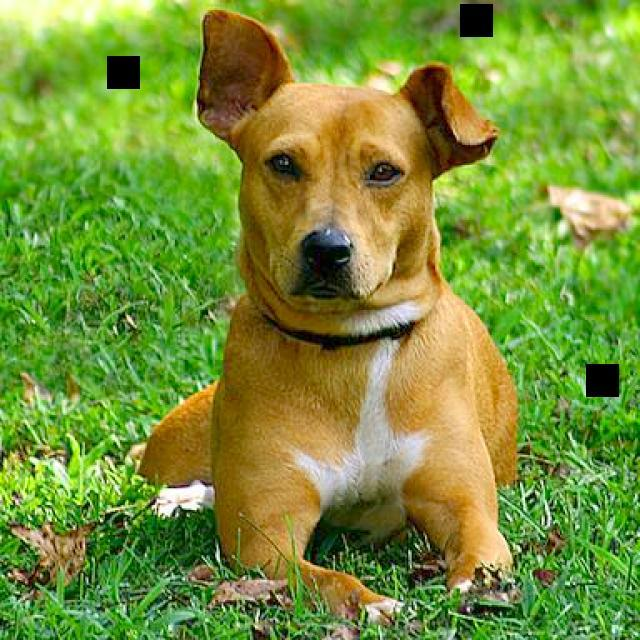adult_dog: (125, 5, 528, 624)
